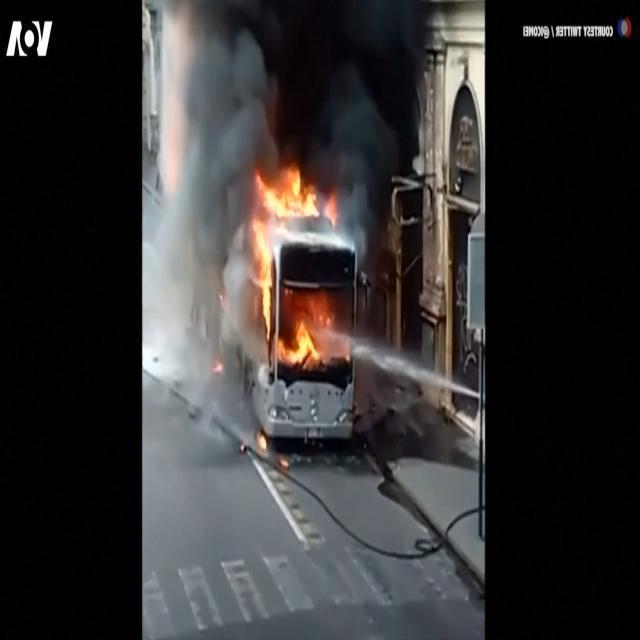fire: (235, 156, 349, 388)
